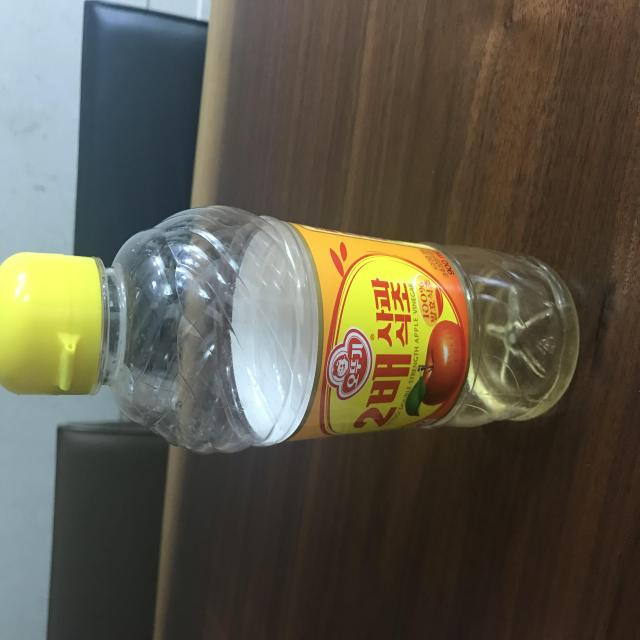bottle: (0, 193, 584, 460)
